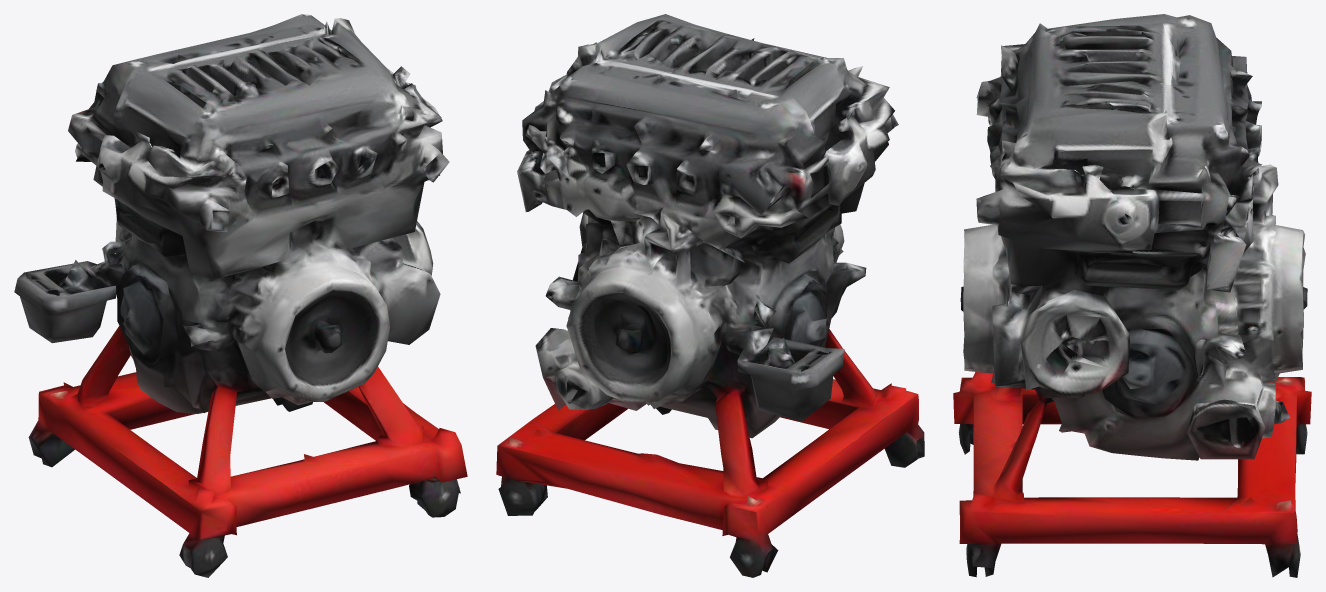
Rendered from gr_engstand.glb.
The picture shows the model from 3 angles, left to right: view 1: azimuth 30°, elevation 25°; view 2: azimuth 150°, elevation 25°; view 3: azimuth 270°, elevation 25°; orthographic projection. The views are drawn at different scales.
Visible parts, largest first — view 1: tripo_node_7f2c65fd-54e6-40e2-be8c-e213e372134d; view 2: tripo_node_7f2c65fd-54e6-40e2-be8c-e213e372134d; view 3: tripo_node_7f2c65fd-54e6-40e2-be8c-e213e372134d.
Boxes of the visible parts, x1,y1,x2,y2 form: tripo_node_7f2c65fd-54e6-40e2-be8c-e213e372134d: [14, 14, 467, 577]; tripo_node_7f2c65fd-54e6-40e2-be8c-e213e372134d: [496, 14, 924, 577]; tripo_node_7f2c65fd-54e6-40e2-be8c-e213e372134d: [953, 14, 1311, 577].
Bounding box in the file's own units: 0.8036 × 1 × 0.7111.
Materials: 1 (1 with a texture image).
